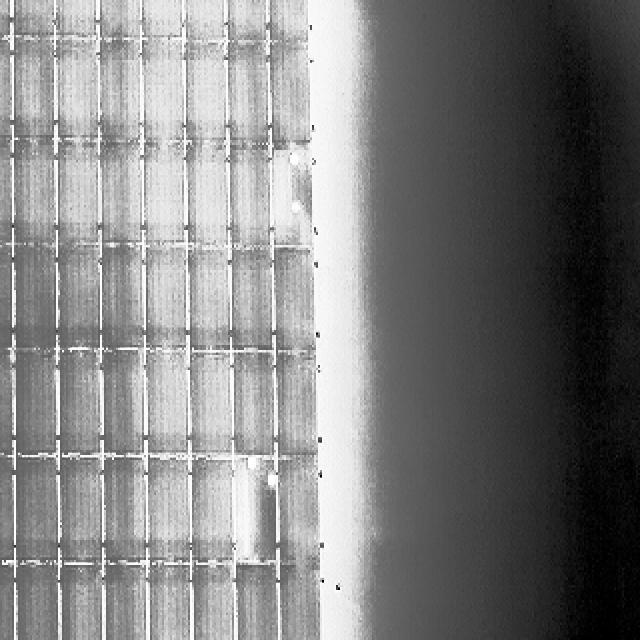Hotspots: (245, 456, 260, 470), (288, 154, 302, 168), (288, 203, 303, 216), (268, 470, 278, 487)
PV-modules: (273, 458, 320, 568), (149, 453, 196, 562), (57, 458, 103, 567), (97, 352, 143, 461), (188, 459, 234, 567), (58, 352, 104, 459), (14, 141, 59, 250), (227, 246, 273, 352), (104, 456, 149, 564), (16, 458, 61, 566), (274, 354, 319, 462), (12, 352, 57, 459), (138, 39, 182, 148), (94, 32, 138, 140), (223, 36, 267, 144), (142, 352, 186, 460), (56, 143, 100, 250), (237, 456, 280, 565), (269, 43, 312, 152), (14, 247, 59, 351), (186, 144, 230, 250), (188, 349, 232, 455), (56, 245, 101, 348), (235, 354, 279, 459), (102, 245, 147, 347), (96, 140, 141, 242), (14, 38, 58, 142), (56, 36, 100, 140), (187, 247, 230, 352), (270, 148, 314, 250), (272, 247, 315, 351), (185, 39, 228, 142), (142, 246, 185, 349), (231, 151, 275, 251), (140, 146, 183, 248), (150, 560, 198, 640), (56, 562, 102, 640), (16, 560, 60, 640), (236, 565, 282, 640), (278, 565, 322, 640), (104, 565, 148, 640), (190, 565, 234, 640), (11, 0, 99, 37), (222, 0, 268, 43), (269, 0, 311, 43), (92, 0, 140, 37), (184, 0, 226, 40), (12, 0, 57, 36), (140, 0, 182, 37), (55, 0, 98, 36), (0, 35, 12, 137), (0, 450, 10, 560), (0, 350, 10, 458), (0, 242, 8, 350), (0, 137, 8, 245), (0, 557, 10, 640), (0, 0, 14, 35)
